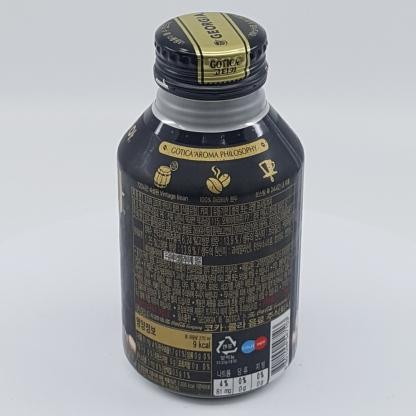---------------270ML: (117, 12, 304, 398)
